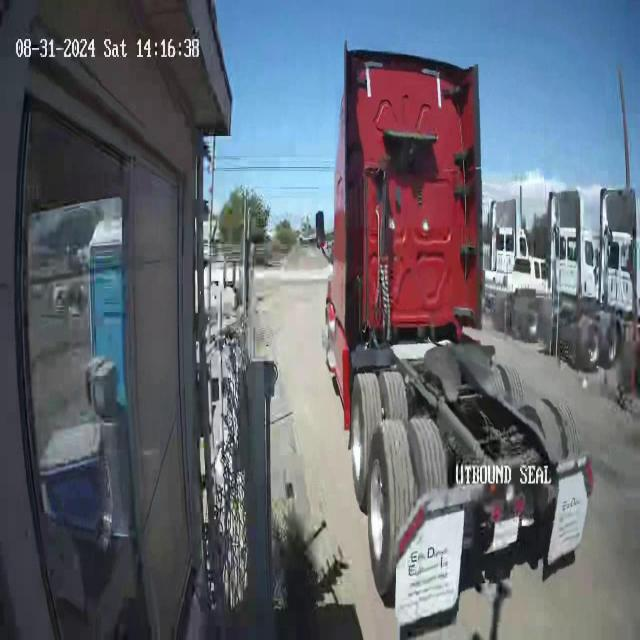BOBTAIL: (315, 39, 595, 622)
